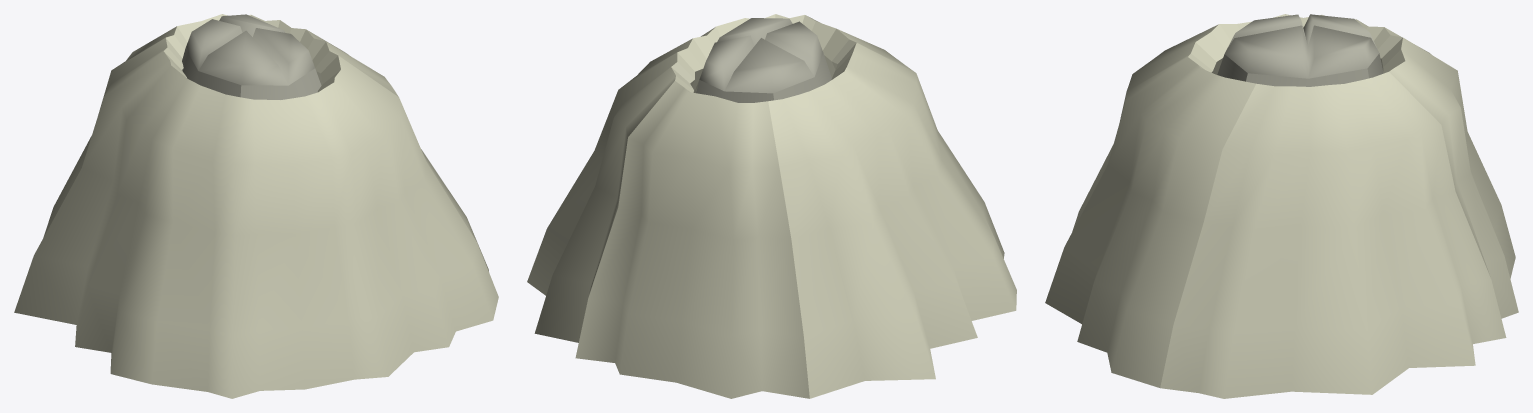
Rendered from env_acornBarnacles_mdl-Single_v01.fbx.
3 views of the same model, side by side, from view 1: azimuth 30°, elevation 25°; view 2: azimuth 150°, elevation 25°; view 3: azimuth 270°, elevation 25° (orthographic). The views are drawn at different scales.
Visible parts, largest first — view 1: barnaclePlate, barnacleBeak; view 2: barnaclePlate, barnacleBeak; view 3: barnaclePlate, barnacleBeak.
Boxes of the visible parts, x1,y1,x2,y2 form: barnaclePlate: (14, 14, 498, 398); barnacleBeak: (182, 14, 321, 99); barnaclePlate: (527, 14, 1016, 398); barnacleBeak: (696, 18, 831, 102); barnaclePlate: (1045, 14, 1518, 398); barnacleBeak: (1217, 14, 1383, 86).
Bounding box in the file's own units: 1.04 × 0.655 × 1.01.
